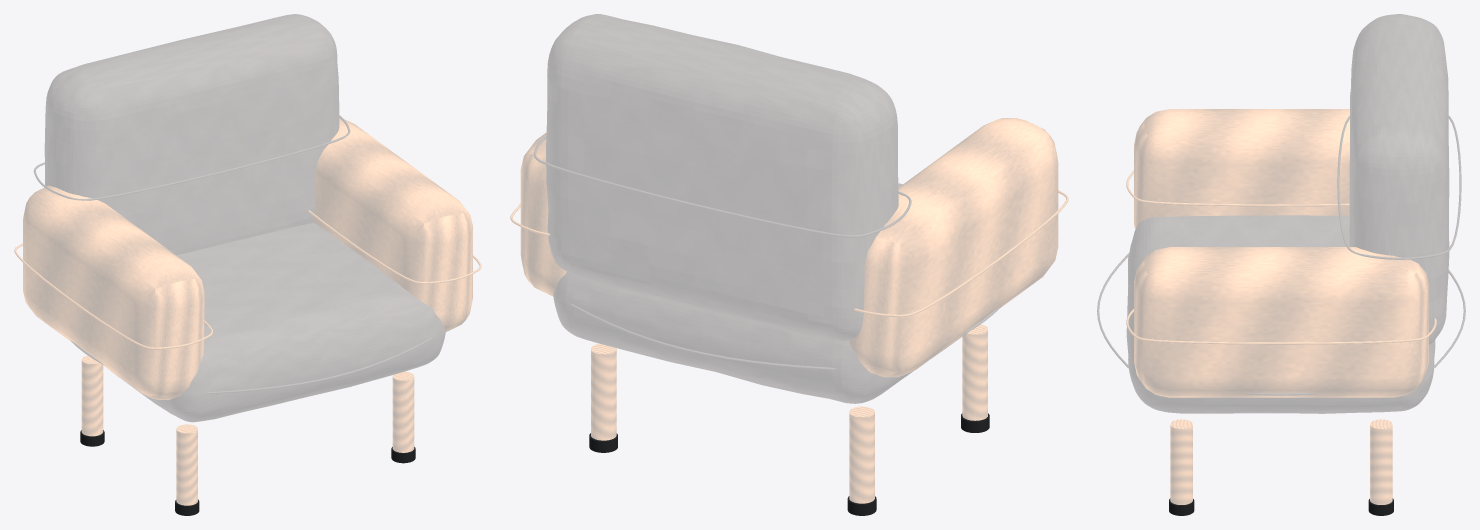
File: ref01_04.glb
3 renders of one model, left to right at view 1: azimuth 30°, elevation 25°; view 2: azimuth 150°, elevation 25°; view 3: azimuth 270°, elevation 25°, orthographic. The views are drawn at different scales.
Visible parts, largest first — view 1: ref01_04; view 2: ref01_04; view 3: ref01_04.
Part boxes in pixels (x1,y1,x2,y2): ref01_04: (14, 14, 481, 515); ref01_04: (510, 14, 1068, 515); ref01_04: (1097, 14, 1465, 515).
Size of the model in its own units: 0.9449 by 0.9341 by 0.8127.
3 materials, 2 textured.
